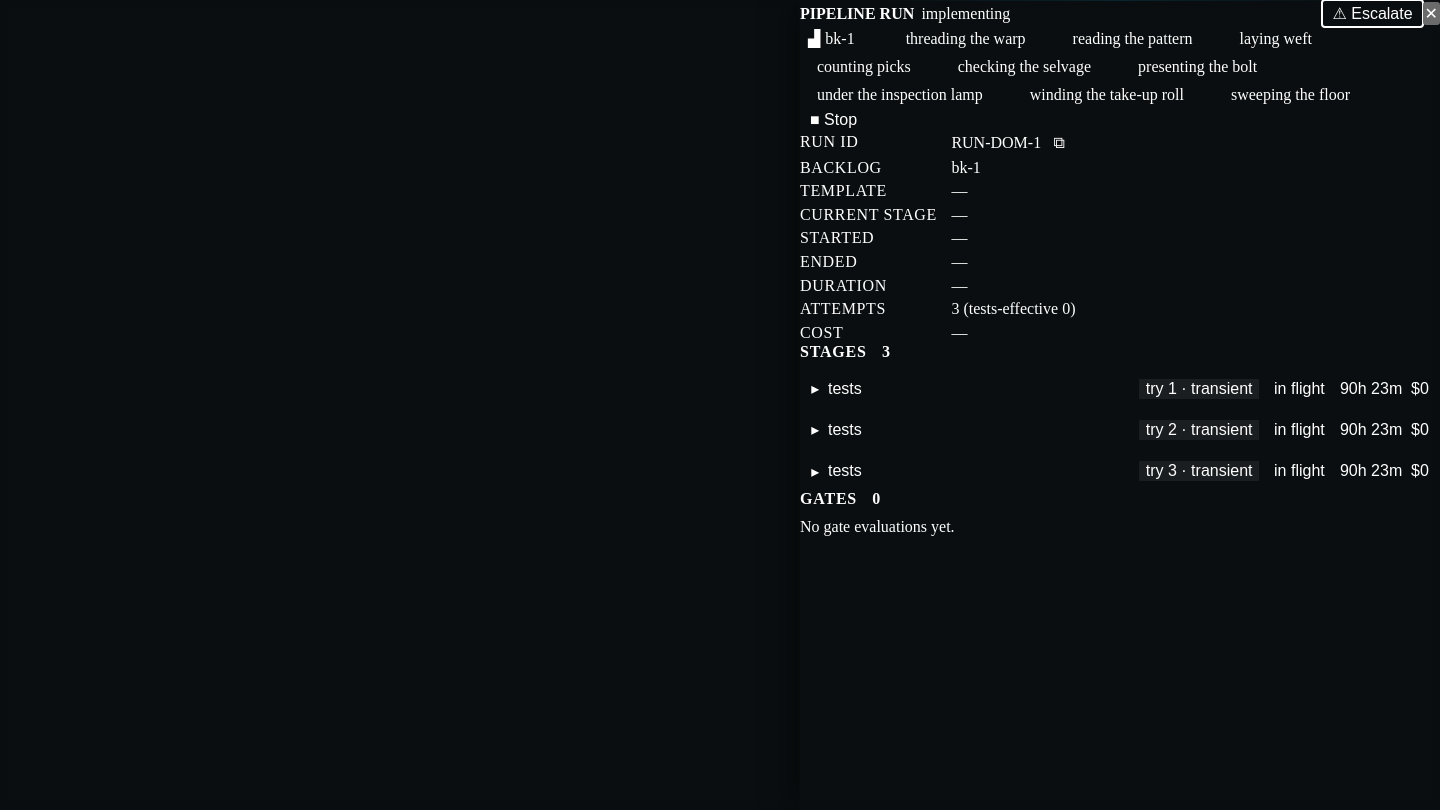
Test: PipelineRunDetail — retry attempt ledger › shows three free transport attempts, zero and first-line tooltips
Expected: the number of elements with class "retry-chip" is 3, [1139,379,1259,398]; [1139,420,1259,440]; [1139,461,1259,481]
What coordinates should you click on to do the following:
click the 1st button with class "stage-head"
I would click on:
 (845, 388)
Its box is [800,371,1439,406].
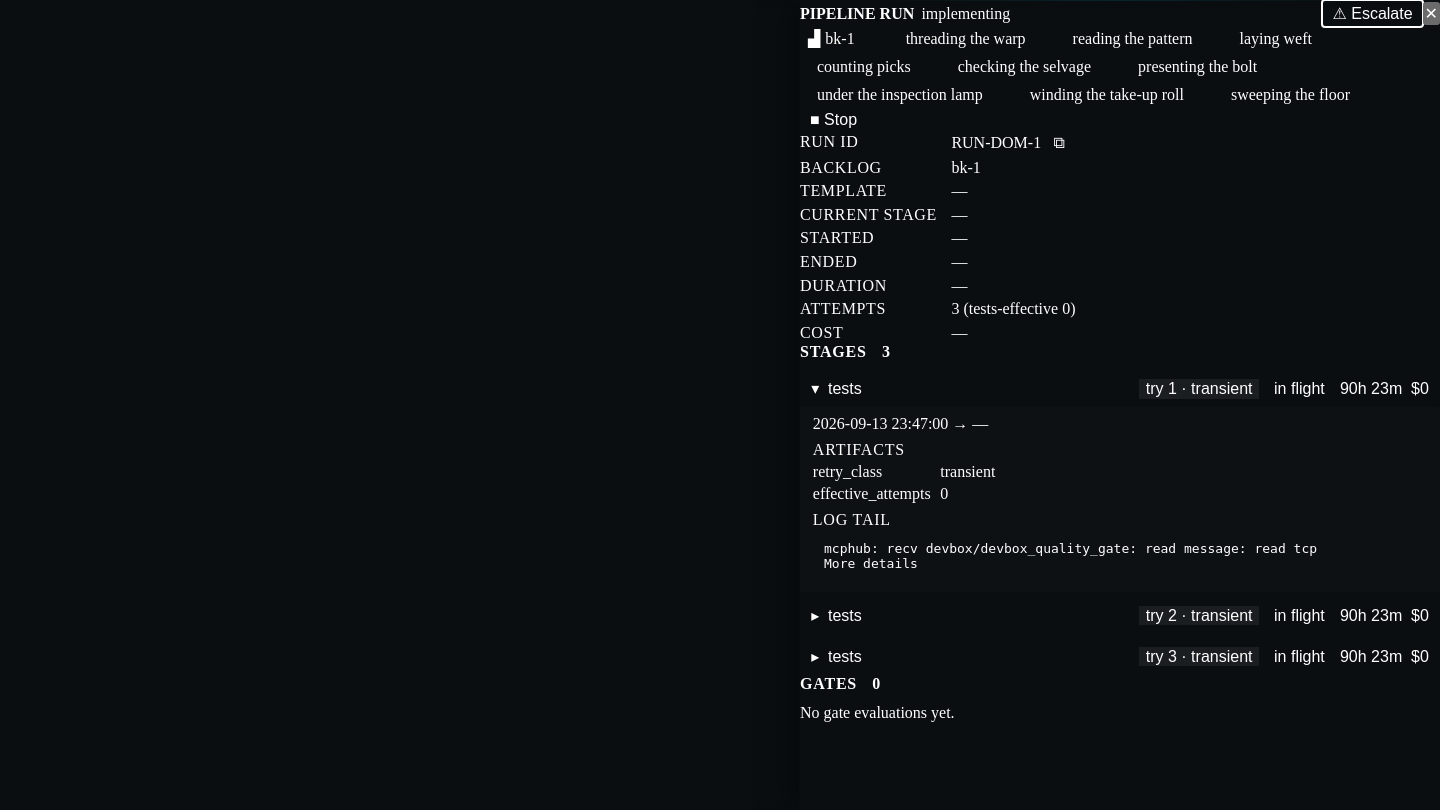
Result: the element with class "stage-body" shows "More details" at [824,541,1317,571]
